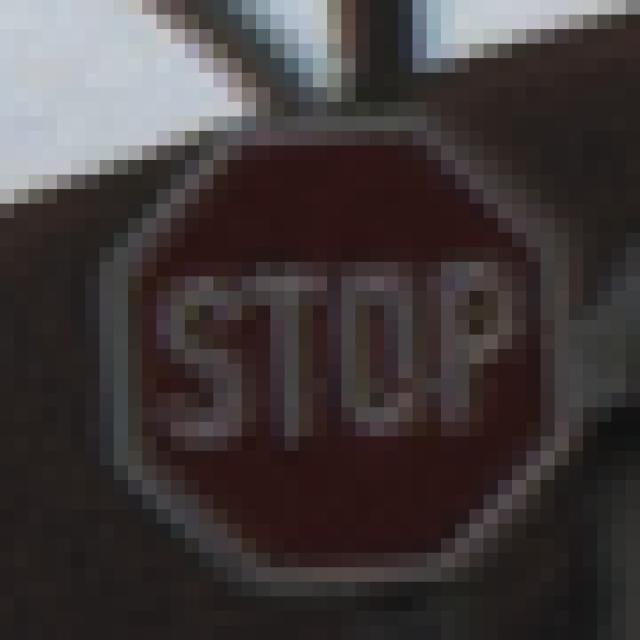STOP: (86, 89, 556, 569)
